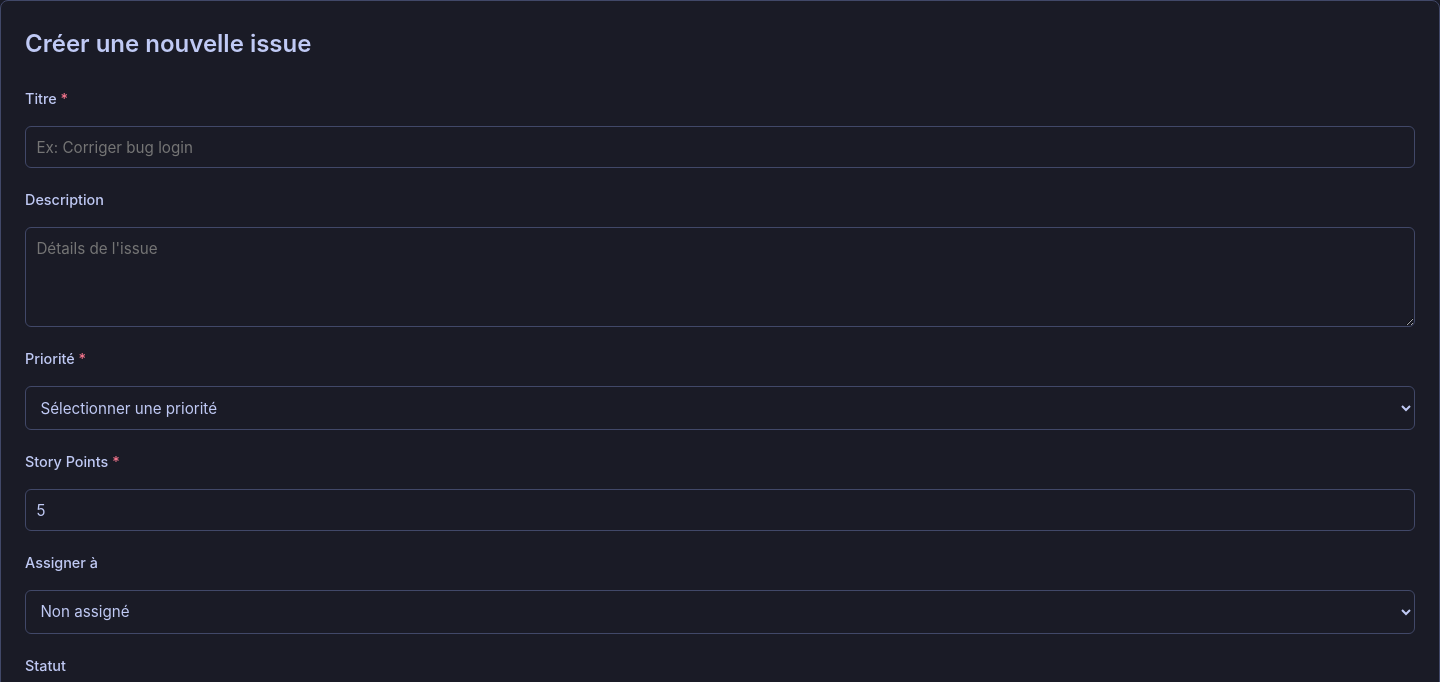
Test case: CreateIssueForm › devrait valider que la priorité est requise
Step 1. Type "Test Issue" into the field named "title" → coordinates (720, 147), box [25,126,1415,168]
(page scrolled)
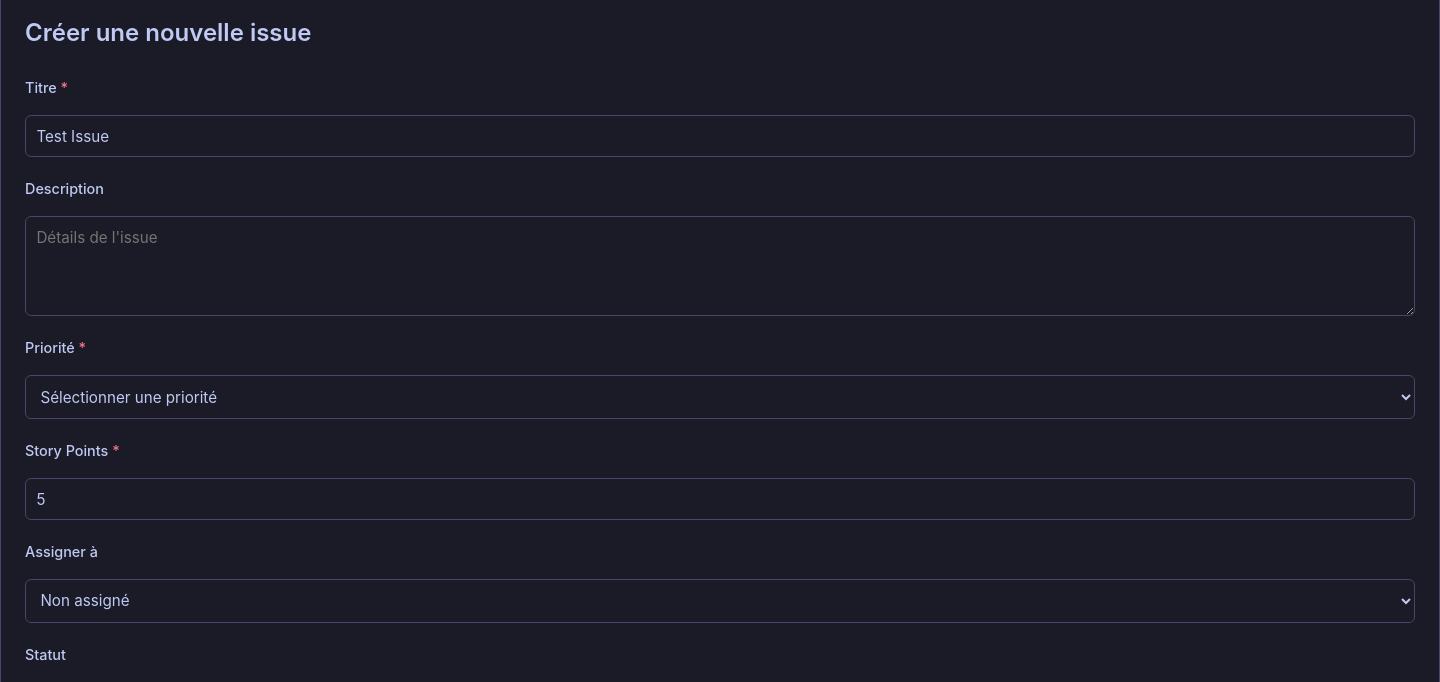
Step 2. Submit the form
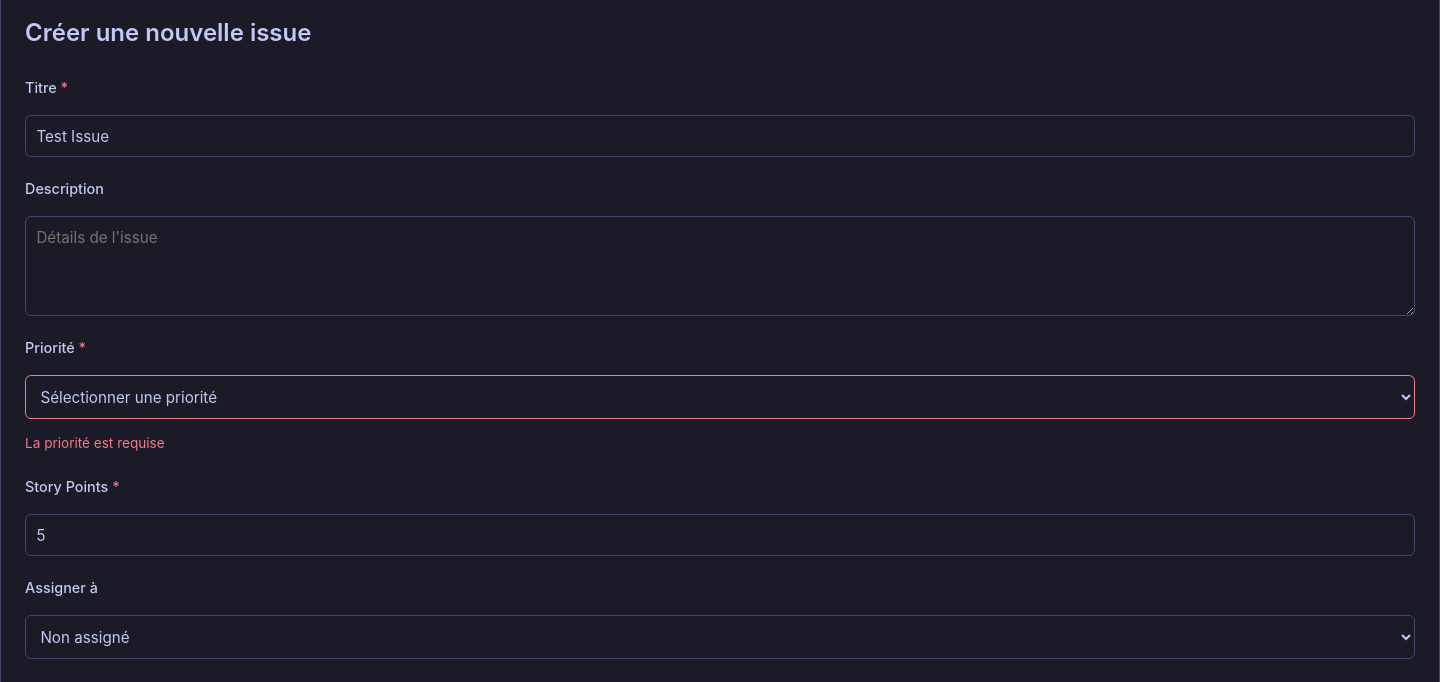
expect the text "La priorité est requise" is shown: met, box [25,436,165,452]
